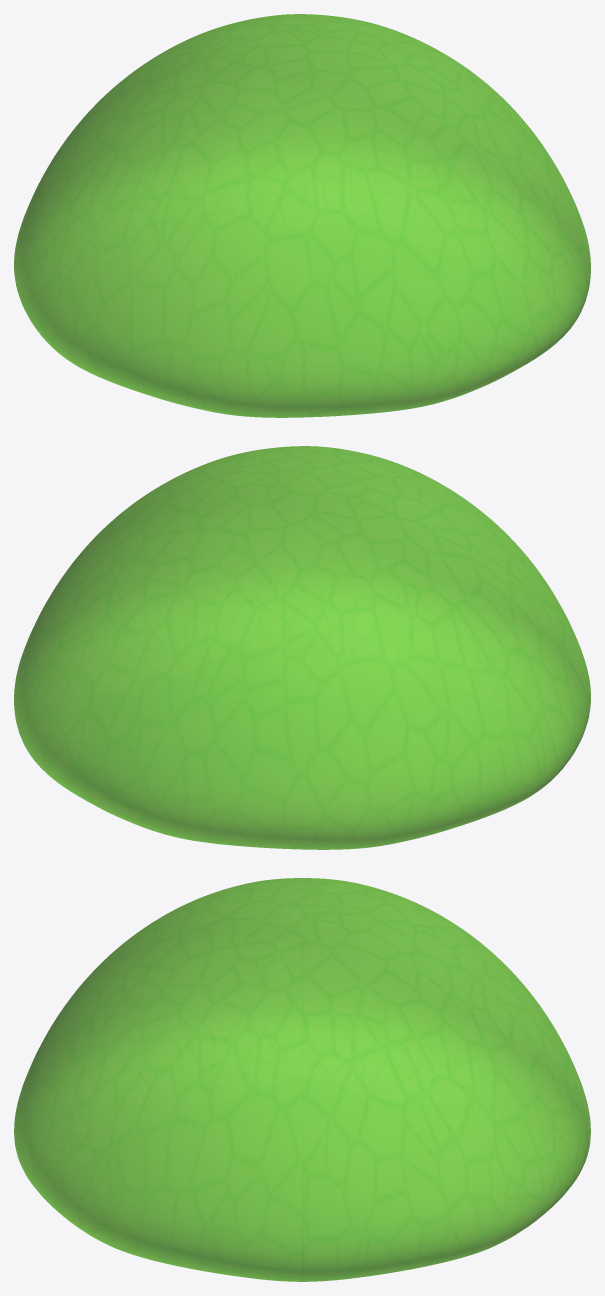
The model's file is Slime_no_eyes.fbx.
3 renders of one model, top to bottom at view 1: azimuth 30°, elevation 25°; view 2: azimuth 150°, elevation 25°; view 3: azimuth 270°, elevation 25°, orthographic.
Parts seen in each view (by area): view 1: Slime; view 2: Slime; view 3: Slime.
Boxes of the visible parts, box(x1,y1,x2,y2) form: Slime: box(14, 14, 590, 417); Slime: box(14, 446, 590, 849); Slime: box(14, 878, 590, 1281).
Bounding box in the file's own units: 168 × 95.14 × 168.
